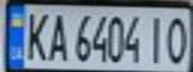0: (106, 11, 127, 64)
4: (124, 11, 145, 63), (90, 11, 109, 63)
6: (72, 10, 93, 63)
A: (45, 9, 69, 62)
I: (145, 11, 169, 64)
K: (21, 8, 51, 62)
O: (163, 11, 193, 64)
